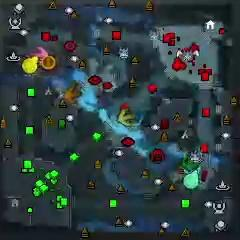Other: (41, 56, 55, 70)
p2: (181, 169, 200, 190)
p4: (22, 56, 39, 75)
x1: (32, 47, 49, 63)
x2: (117, 107, 135, 128)
x4: (182, 152, 199, 171)
x5: (64, 85, 80, 103)
